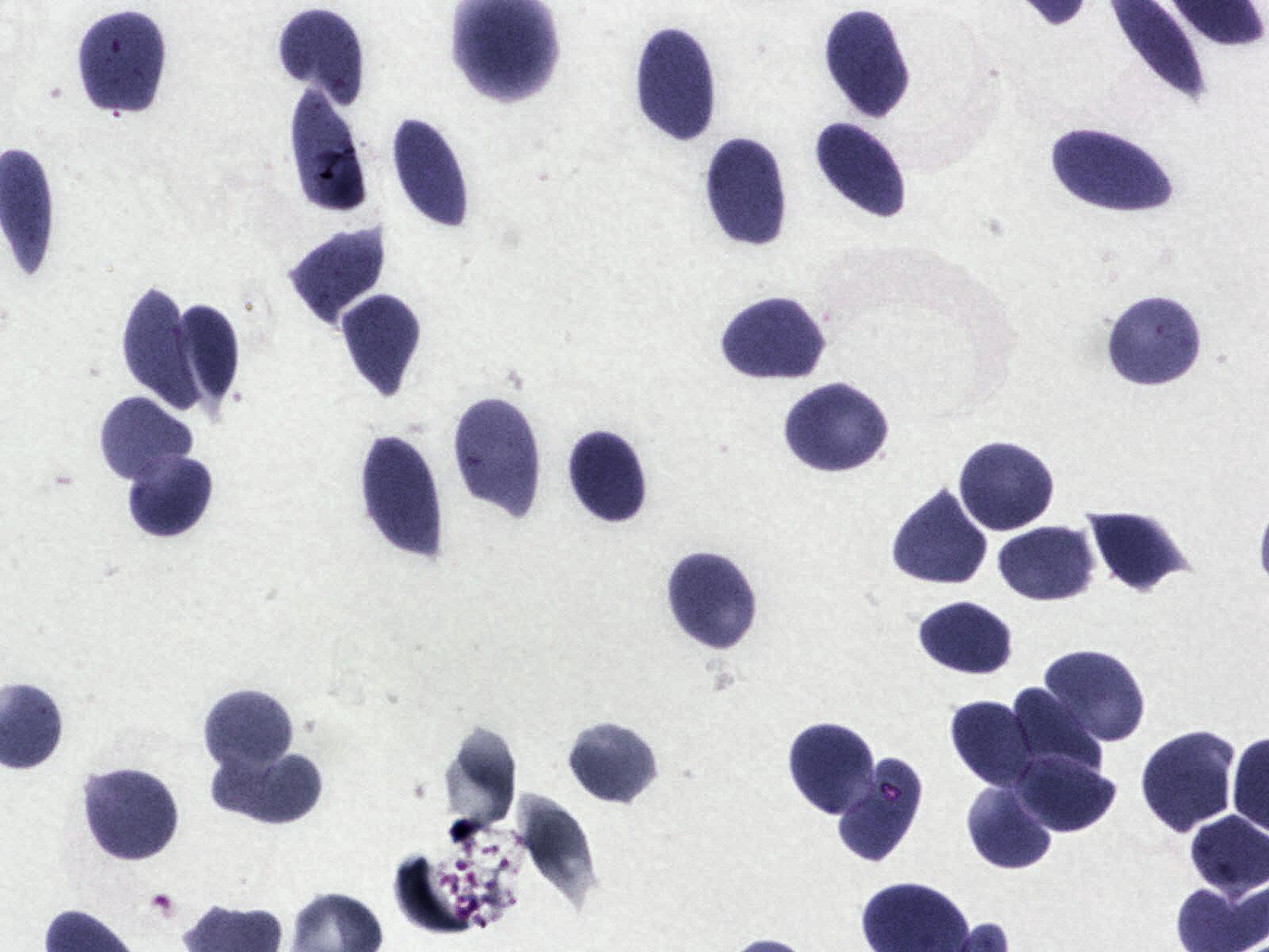Uninfected: (1049, 129, 1178, 219), (813, 121, 912, 225), (363, 435, 444, 562), (455, 399, 544, 510), (664, 558, 765, 654), (120, 286, 194, 416), (85, 768, 183, 866), (704, 135, 788, 249), (833, 758, 923, 864), (505, 786, 586, 902), (959, 440, 1057, 535), (826, 6, 909, 117), (293, 95, 371, 213), (339, 288, 424, 396), (637, 27, 717, 141), (1142, 736, 1234, 835), (722, 298, 830, 382), (563, 718, 662, 808), (896, 486, 986, 585), (565, 424, 650, 528), (789, 720, 879, 818), (439, 727, 518, 838), (1086, 508, 1186, 594), (788, 390, 888, 475), (1109, 299, 1203, 389), (79, 13, 163, 111), (968, 782, 1057, 874), (98, 393, 191, 480), (213, 752, 319, 828), (393, 117, 465, 228), (279, 11, 366, 102), (1050, 657, 1142, 743), (127, 450, 215, 539), (295, 234, 385, 321), (166, 298, 236, 407), (1017, 756, 1118, 831), (204, 686, 290, 770), (999, 526, 1095, 600), (920, 603, 1020, 672), (1015, 690, 1100, 771), (955, 702, 1032, 790)
